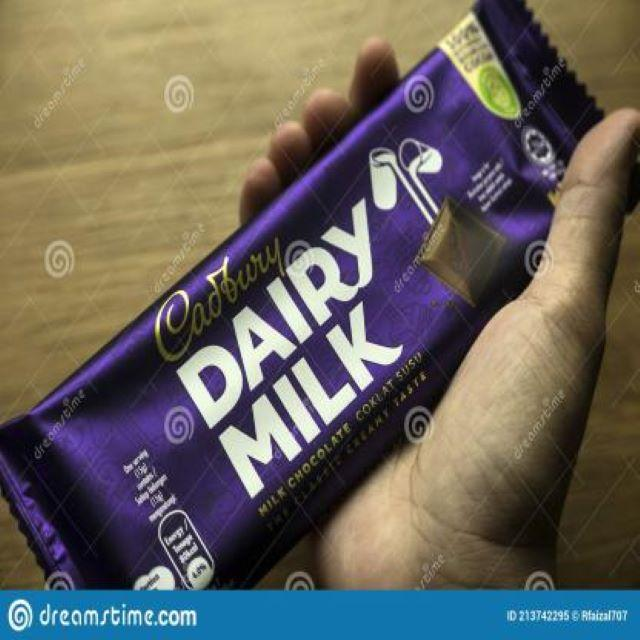cadbury_chocolate: (10, 12, 638, 625)
